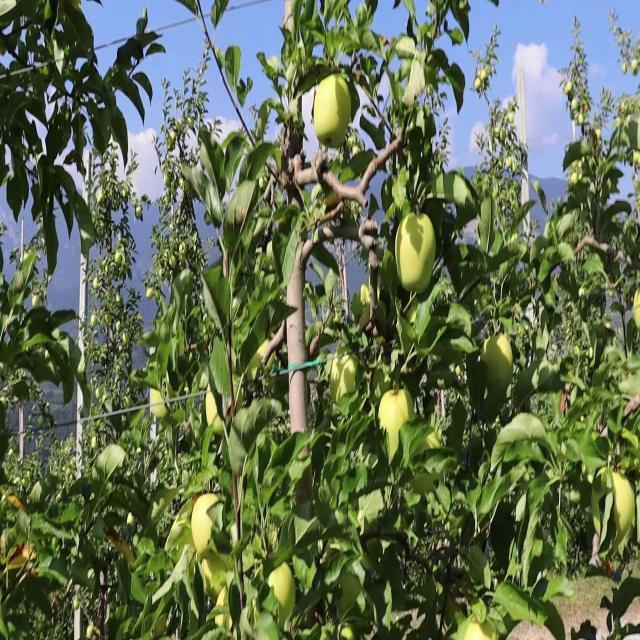apple: (396, 213, 438, 297), (312, 78, 354, 149), (380, 391, 411, 453), (484, 334, 515, 389), (200, 547, 229, 603), (612, 476, 636, 539), (192, 497, 217, 556), (332, 355, 358, 405), (272, 561, 296, 610), (336, 355, 359, 404), (208, 391, 227, 434), (216, 590, 232, 631), (16, 547, 36, 571), (324, 184, 341, 212), (428, 433, 441, 453), (156, 618, 168, 639), (152, 391, 165, 405), (636, 291, 640, 329), (476, 78, 482, 92)
